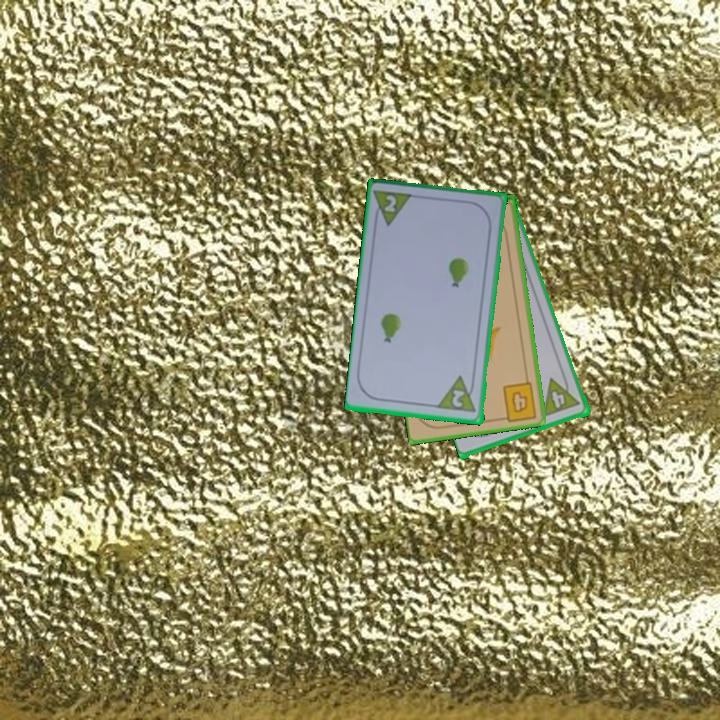2p: (371, 187, 416, 230), (449, 386, 467, 411)
4b: (497, 378, 539, 424)
4p: (540, 377, 571, 417)
